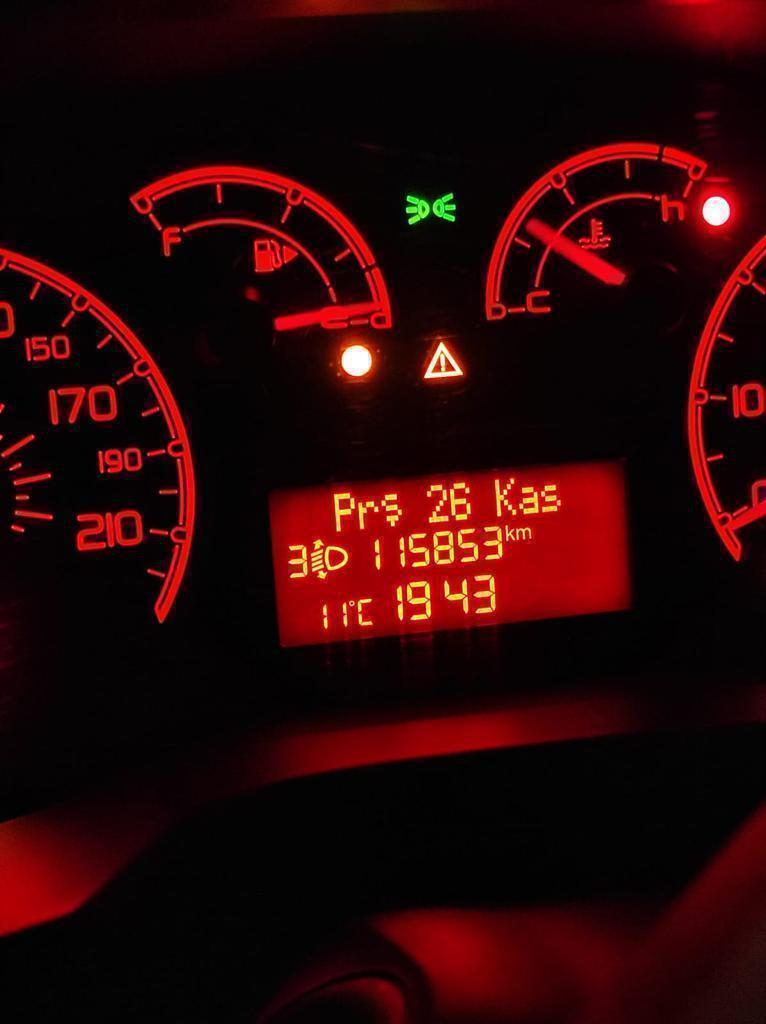1: (395, 584, 404, 621), (374, 538, 380, 570), (341, 601, 348, 628), (399, 536, 405, 567), (322, 603, 328, 630)
2: (426, 483, 448, 523)
3: (472, 574, 497, 614), (482, 525, 503, 561), (287, 544, 308, 578)
4: (443, 578, 469, 614)
5: (407, 532, 430, 567), (457, 527, 479, 562)
6: (449, 481, 471, 520)
8: (432, 530, 454, 565)
9: (406, 580, 431, 620)
X: (332, 492, 355, 532), (494, 477, 516, 517), (381, 493, 402, 527), (358, 500, 379, 529), (540, 484, 561, 512), (519, 486, 539, 514), (357, 597, 373, 626), (515, 527, 531, 540), (504, 524, 515, 541)
odometer: (262, 458, 635, 653)
